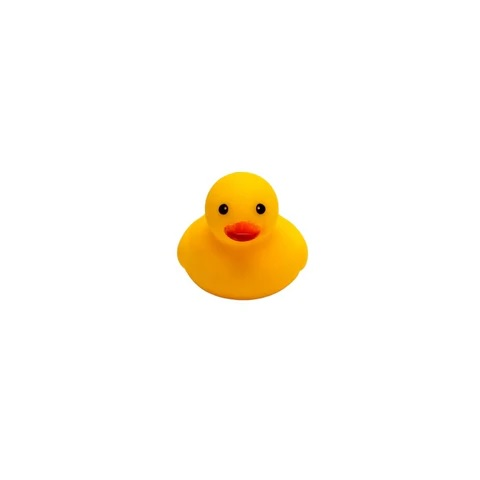duck_regular: (177, 170, 308, 300)
